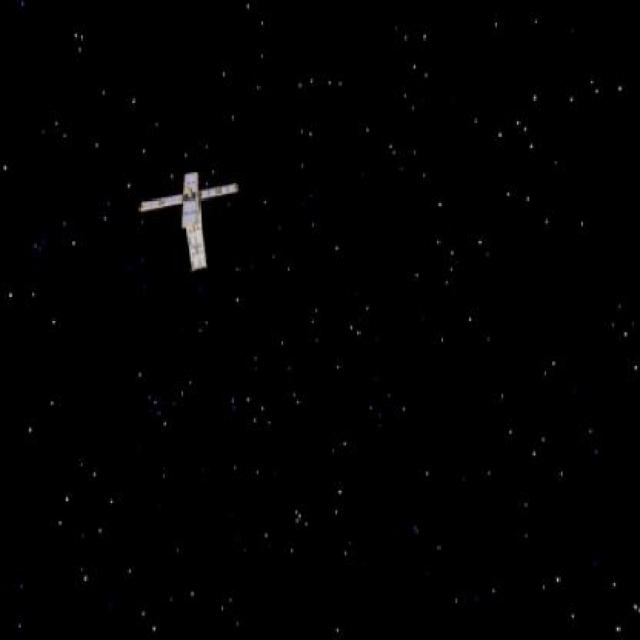medium_debris: (137, 161, 240, 277)
